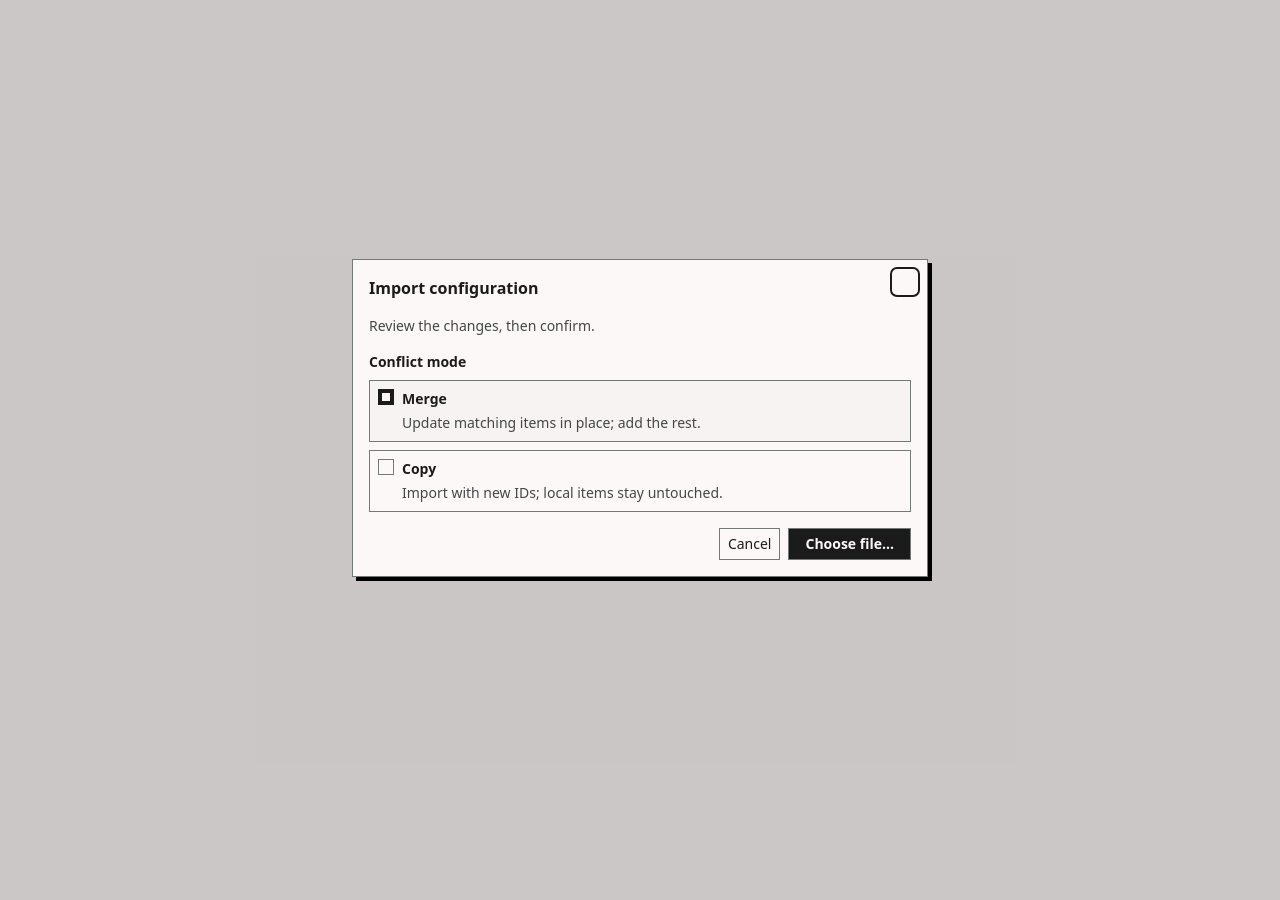
it: ConfigurationImportPreviewDialog apply flow › non-conflict apply rejection renders the mapped error and Re-preview
The width and height of the screenshot is (1280, 900).
Click the button "Choose file…" at [850, 544], box top-left (788, 528), bottom-right (911, 560)
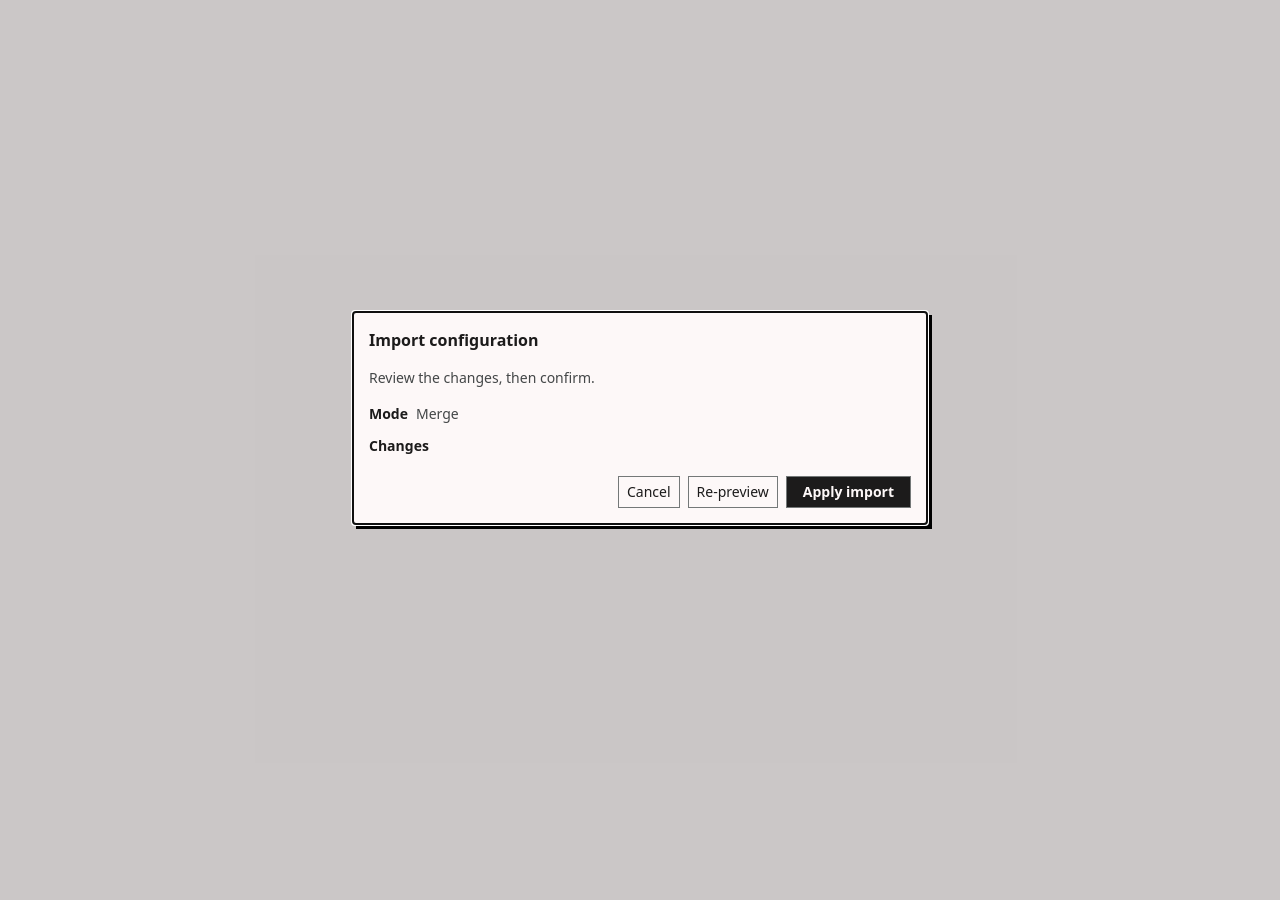
Expected: the button "Apply import" is shown
Click the button "Apply import" at [848, 492], box top-left (786, 476), bottom-right (911, 508)
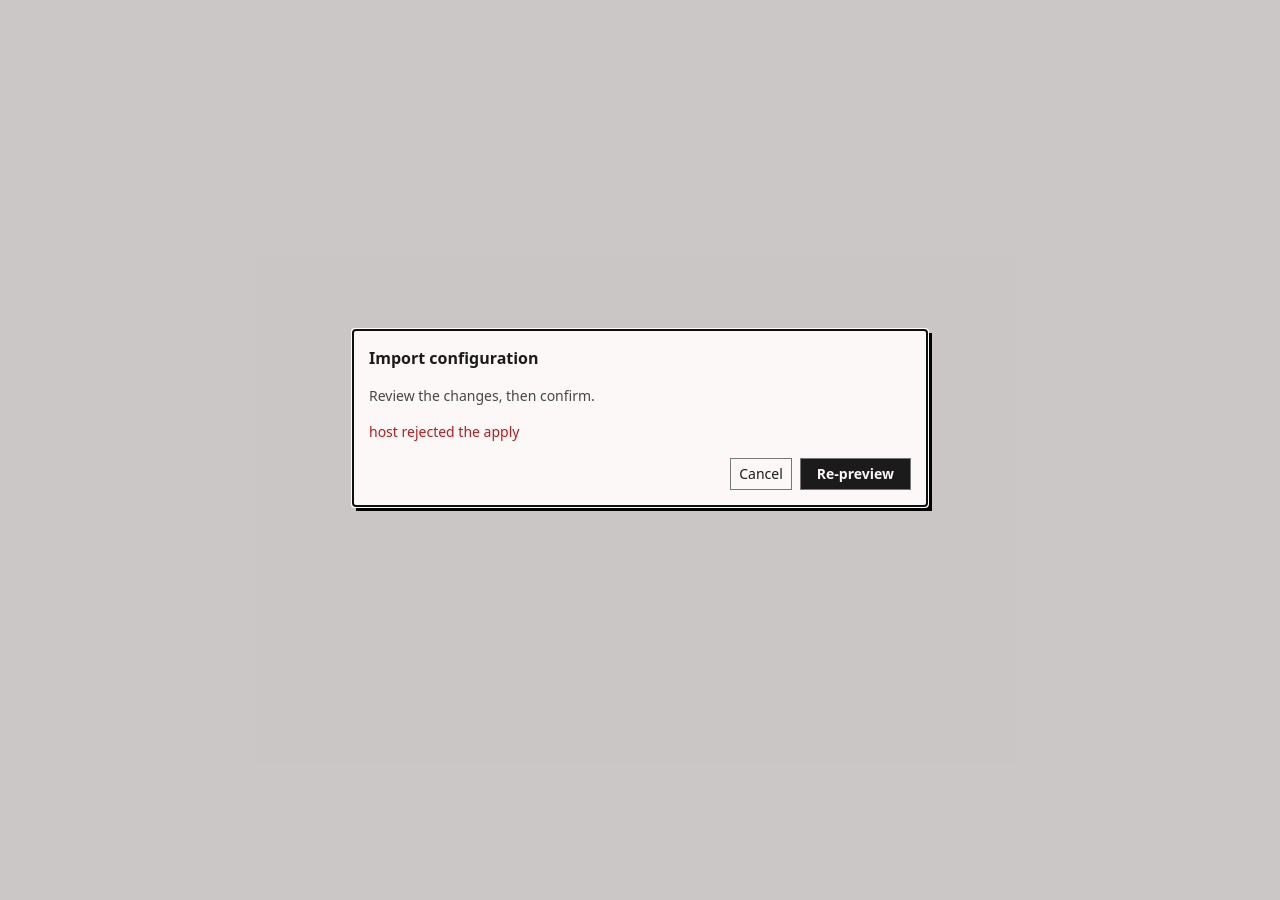
Expected: the button "Cancel" is shown, top-left (730, 458), bottom-right (792, 490)
Expected: the button "Re-preview" is shown, top-left (800, 458), bottom-right (911, 490)
Expected: the message reads "host rejected the apply", top-left (369, 422), bottom-right (519, 441)
